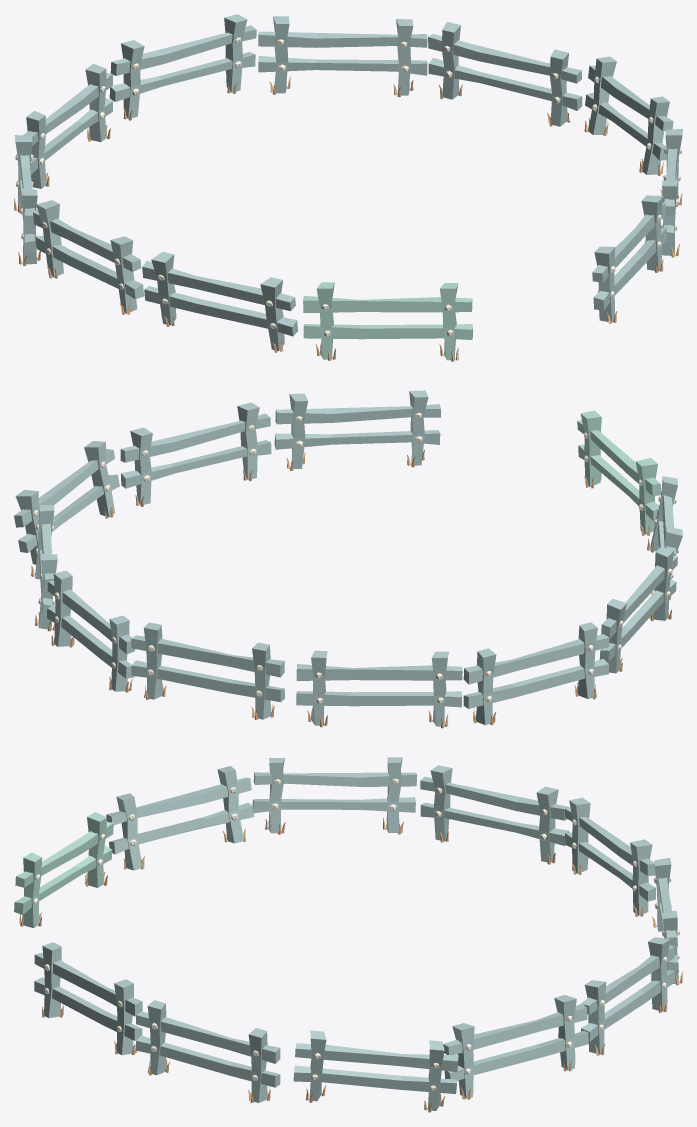
File: fence-turquoise.gltf
3 renders of one model, top to bottom at view 1: azimuth 30°, elevation 25°; view 2: azimuth 150°, elevation 25°; view 3: azimuth 270°, elevation 25°, orthographic. The views are drawn at different scales.
Parts seen in each view (by area): view 1: Cube.071, Cube.064, Cube.065, Cube.067, Cube.066, Cube.062, Cube.068, Cube.072, Cube.070, Cube.063, Cube.069; view 2: Cube.072, Cube.066, Cube.063, Cube.070, Cube.069, Cube.065, Cube.068, Cube.071, Cube.062, Cube.067, Cube.064; view 3: Cube.068, Cube.069, Cube.067, Cube.062, Cube.064, Cube.063, Cube.070, Cube.071, Cube.065, Cube.072, Cube.066.
Boxes of the visible parts, x1,y1,x2,y2 form: Cube.071: (303, 282, 472, 361); Cube.064: (142, 251, 298, 352); Cube.065: (258, 16, 427, 97); Cube.067: (428, 21, 582, 126); Cube.066: (109, 14, 256, 120); Cube.062: (33, 200, 144, 314); Cube.068: (584, 56, 673, 175); Cube.072: (22, 63, 112, 188); Cube.070: (592, 195, 666, 324); Cube.063: (14, 135, 40, 266); Cube.069: (660, 128, 682, 257); Cube.072: (296, 650, 462, 728); Cube.066: (131, 622, 284, 719); Cube.063: (463, 622, 609, 725); Cube.070: (274, 390, 440, 470); Cube.069: (120, 402, 271, 506); Cube.065: (47, 570, 135, 692); Cube.068: (14, 441, 119, 564); Cube.071: (577, 410, 660, 535); Cube.062: (599, 546, 677, 673); Cube.067: (31, 504, 57, 631); Cube.064: (647, 476, 682, 600); Cube.068: (293, 1030, 458, 1112); Cube.069: (136, 1000, 280, 1102); Cube.067: (443, 995, 588, 1099); Cube.062: (252, 757, 417, 834); Cube.064: (106, 766, 254, 870); Cube.063: (420, 765, 569, 864); Cube.070: (34, 942, 142, 1055); Cube.071: (14, 812, 113, 928); Cube.065: (580, 937, 675, 1055); Cube.072: (565, 797, 655, 916); Cube.066: (652, 858, 682, 985).
Bounding box in the file's own units: 11.49 × 1.66 × 11.58.
